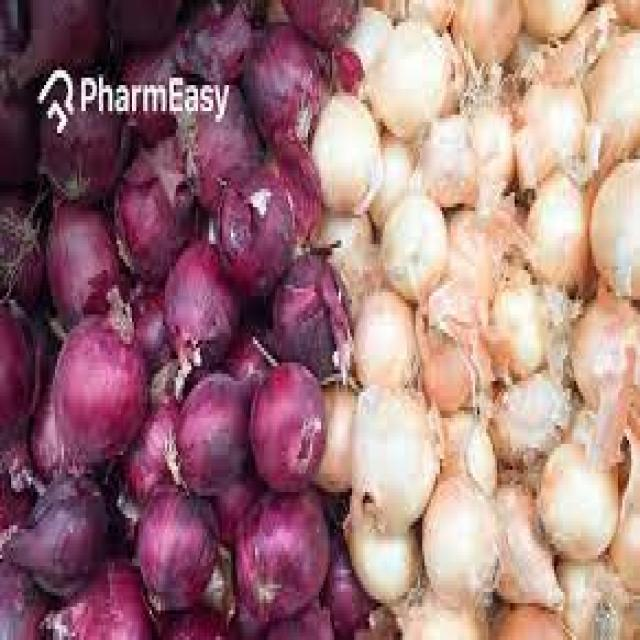Onion: (38, 311, 169, 451), (227, 463, 328, 630), (347, 380, 435, 536), (414, 472, 508, 610), (38, 178, 124, 326), (132, 476, 218, 622), (12, 458, 103, 594), (159, 388, 267, 500), (240, 354, 328, 489), (535, 428, 617, 569), (148, 237, 234, 368), (109, 146, 187, 287), (299, 88, 378, 218), (370, 185, 451, 308), (234, 44, 322, 156), (522, 168, 601, 292), (213, 184, 290, 307), (365, 21, 447, 130)
